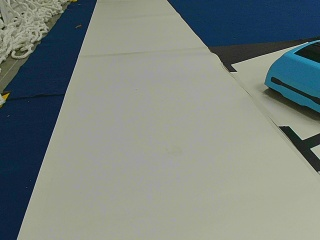car: (264, 40, 317, 111)
